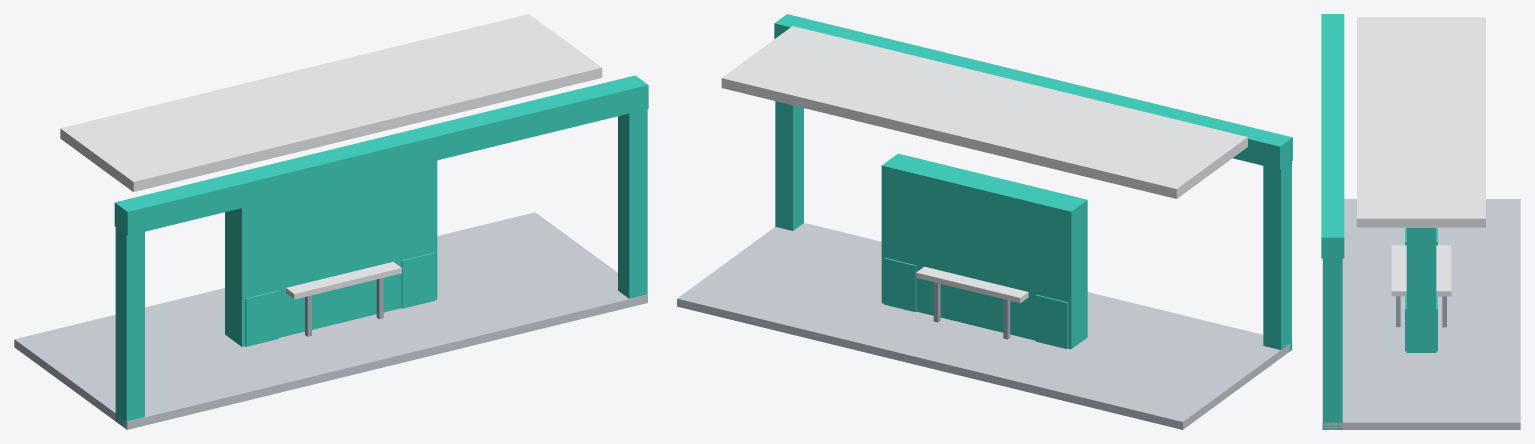
3 views of the same model, side by side, from view 1: azimuth 30°, elevation 25°; view 2: azimuth 150°, elevation 25°; view 3: azimuth 270°, elevation 25° (orthographic). The views are drawn at different scales.
Visible parts, largest first — view 1: Exhibition Booth Concept; view 2: Exhibition Booth Concept; view 3: Exhibition Booth Concept.
Part boxes in pixels (left/top/right/bottom): Exhibition Booth Concept: left=14, top=14, right=648, bottom=429; Exhibition Booth Concept: left=677, top=14, right=1292, bottom=429; Exhibition Booth Concept: left=1321, top=14, right=1520, bottom=429.
Size of the model in its own units: 8 by 3.34 by 3.01.
